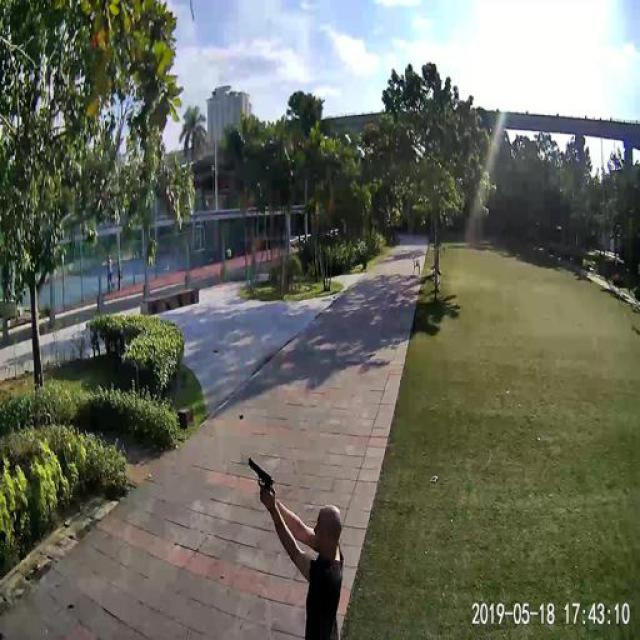weapon: (245, 456, 282, 504)
